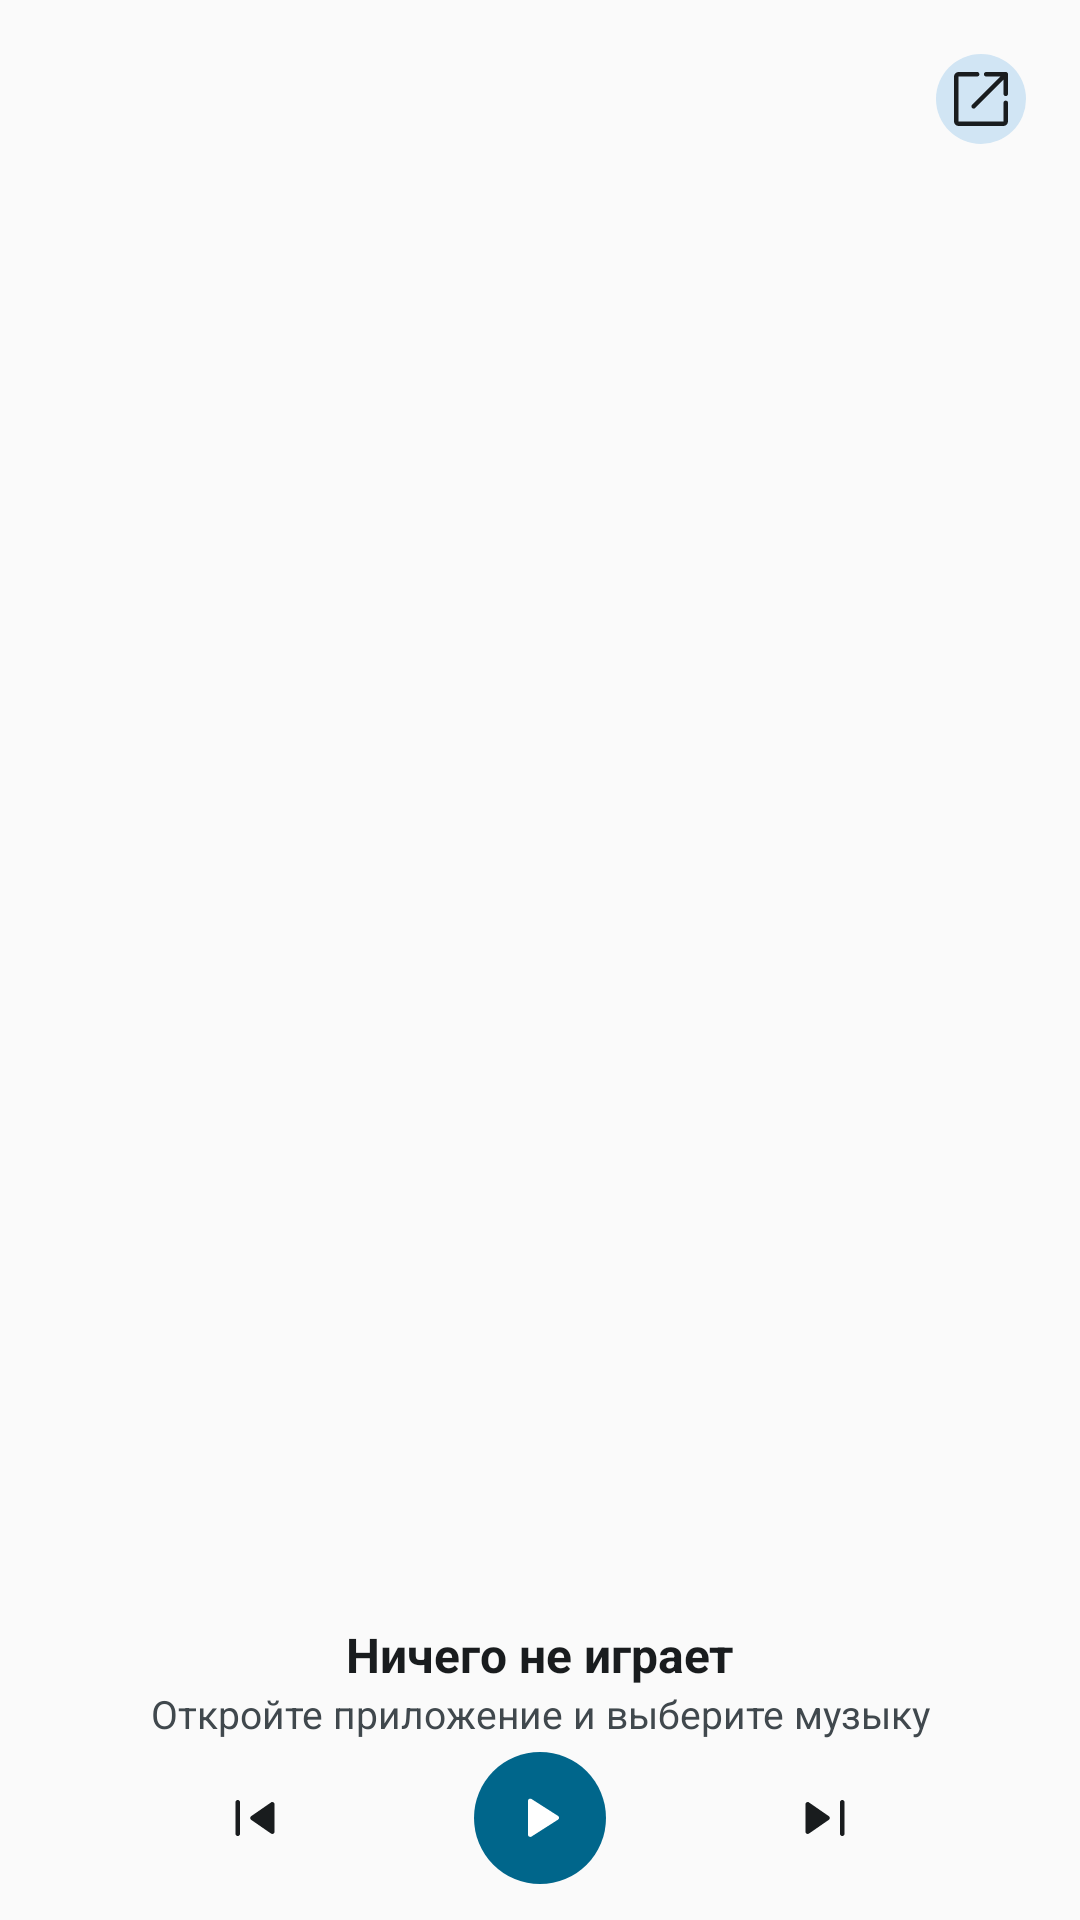

Where to tap for icons on this 1080 × 1920 app screen, as (x,y):
Играть: (540,1818)
Открыть плеер: (981,99)
Предыдущий трек: (255,1818)
Следующий трек: (825,1818)
